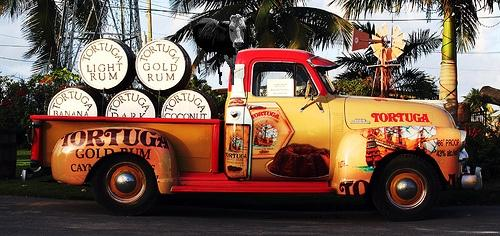tampered: (194, 15, 251, 85)
